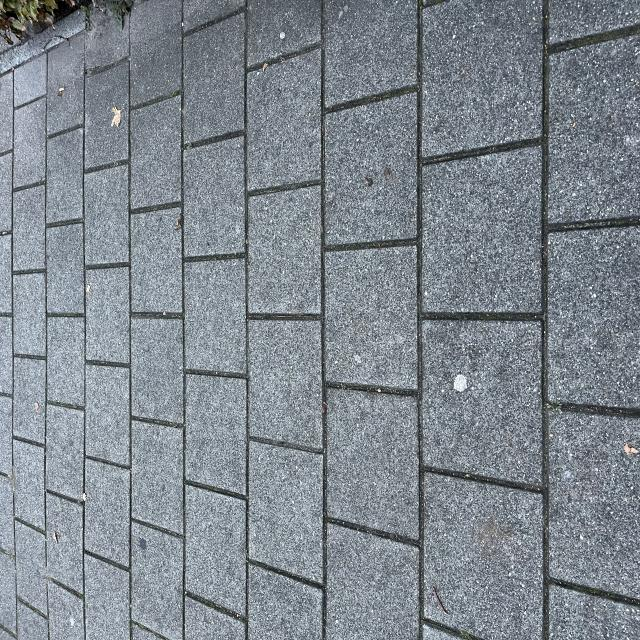pavement: (1, 0, 462, 640)
